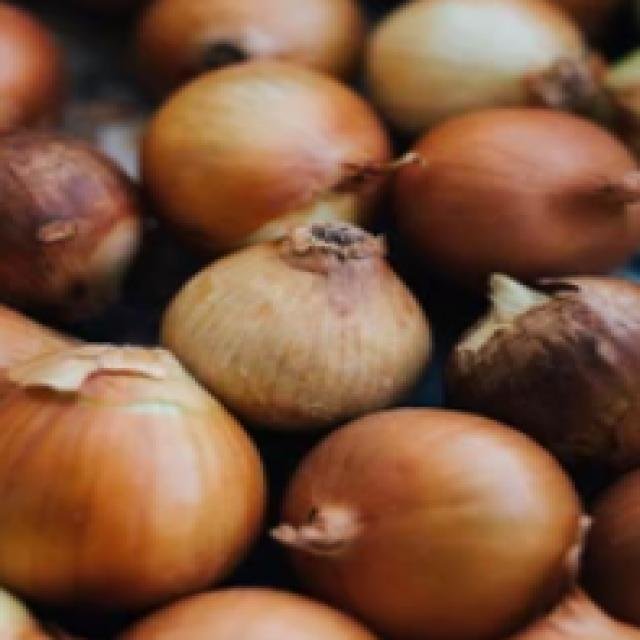rotten: (455, 296, 614, 422), (3, 194, 104, 293)
